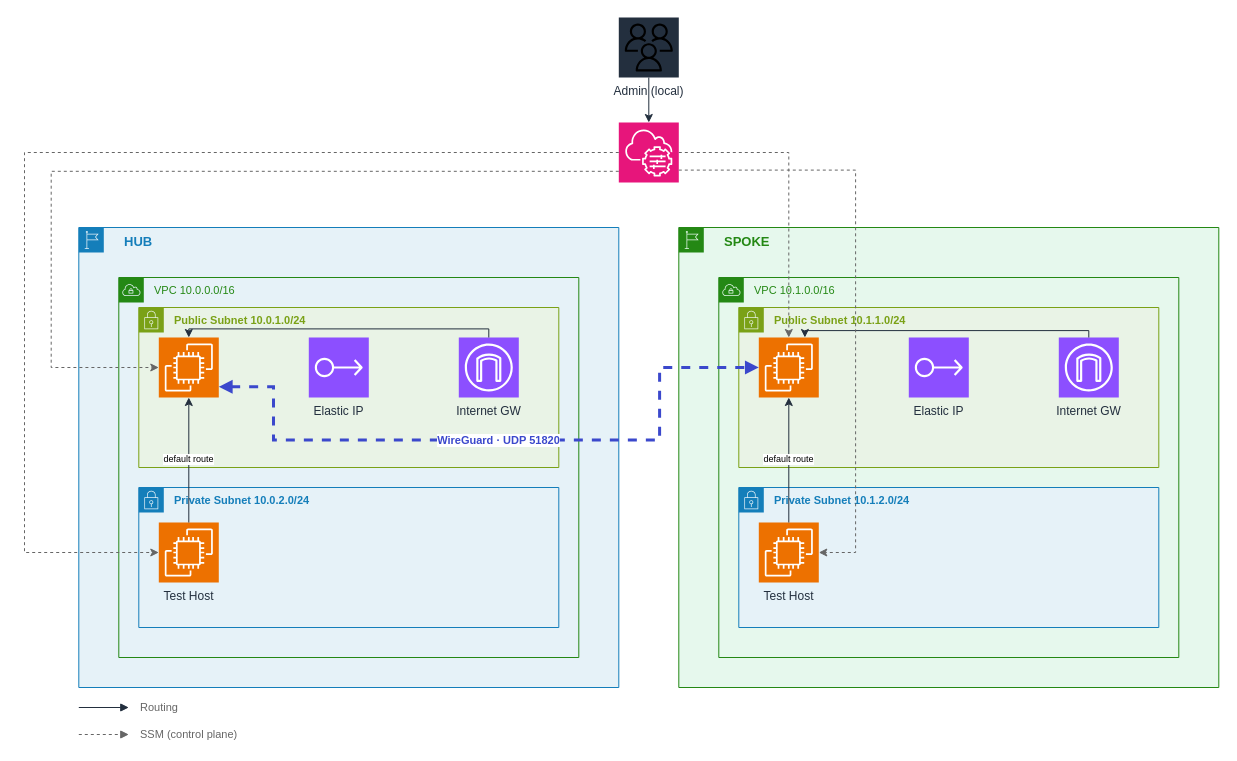
This 1237x761 diagram has some shape labels left out. Here are the shapes that lost their labels. From the top down, the centre of each, then its label:
At (x=648, y=152): "Systems Manager".
At (x=188, y=367): "NAT + WireGuard wg0: 10.100.0.1".
At (x=788, y=367): "NAT + WireGuard wg0: 10.100.0.2".
